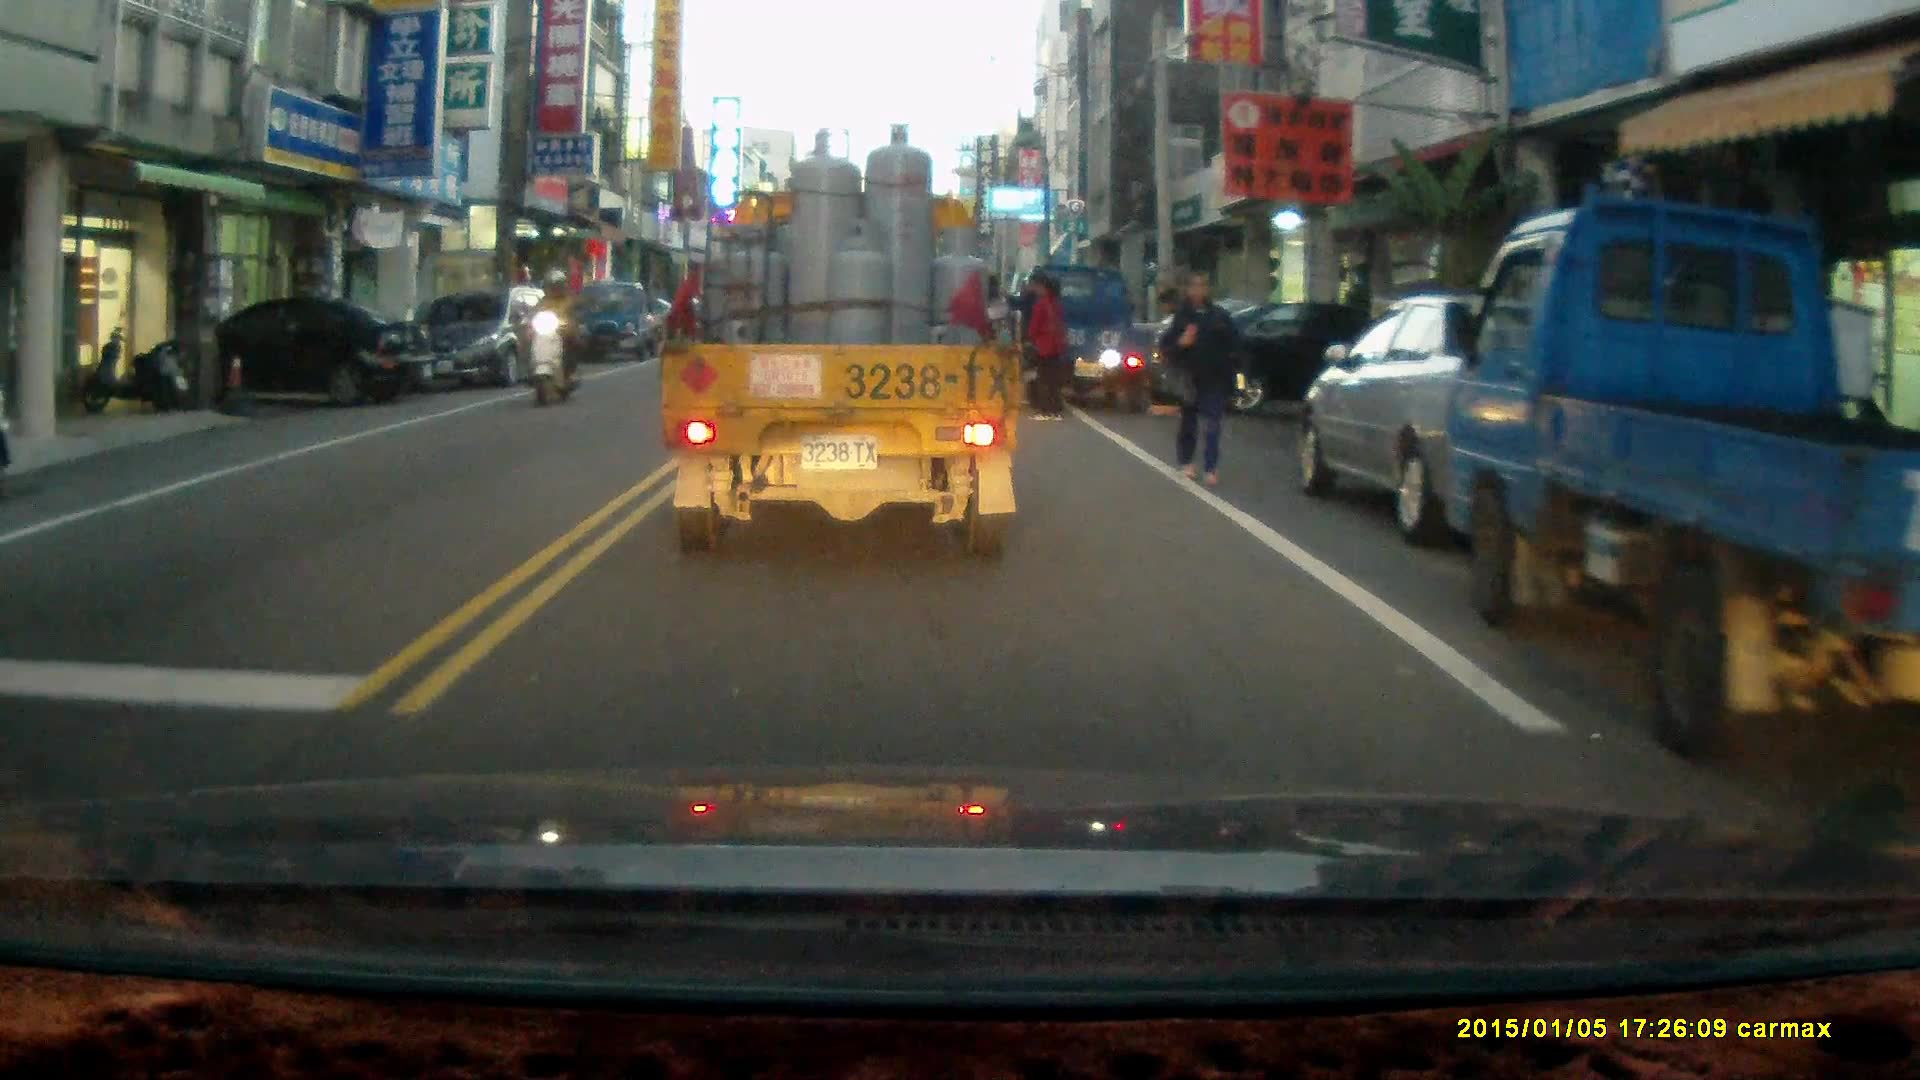pedestrian: (1157, 268, 1254, 488), (1024, 275, 1065, 416)
rider: (522, 265, 584, 406)
vehicle: (1443, 192, 1920, 767), (663, 123, 1025, 564), (1298, 290, 1636, 553), (1163, 297, 1447, 429), (1008, 261, 1160, 411), (420, 290, 565, 395), (569, 279, 675, 365)
